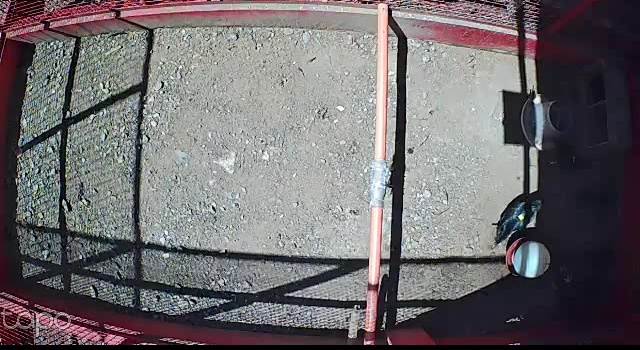Chicken: (489, 199, 543, 251)
Drinker: (499, 234, 554, 284)
Feeder: (522, 91, 575, 152)
Saddle_Color_Yellow: (518, 212, 526, 222)
